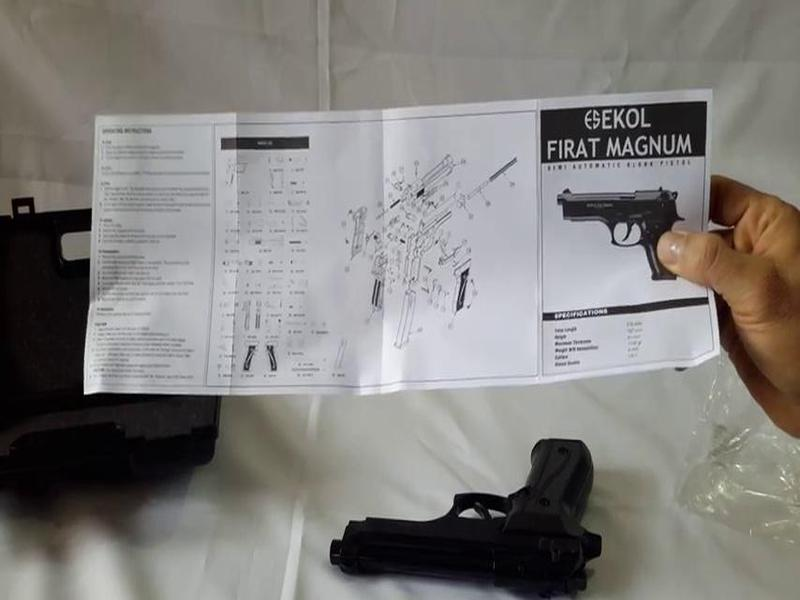Pistola: (308, 429, 644, 574)
